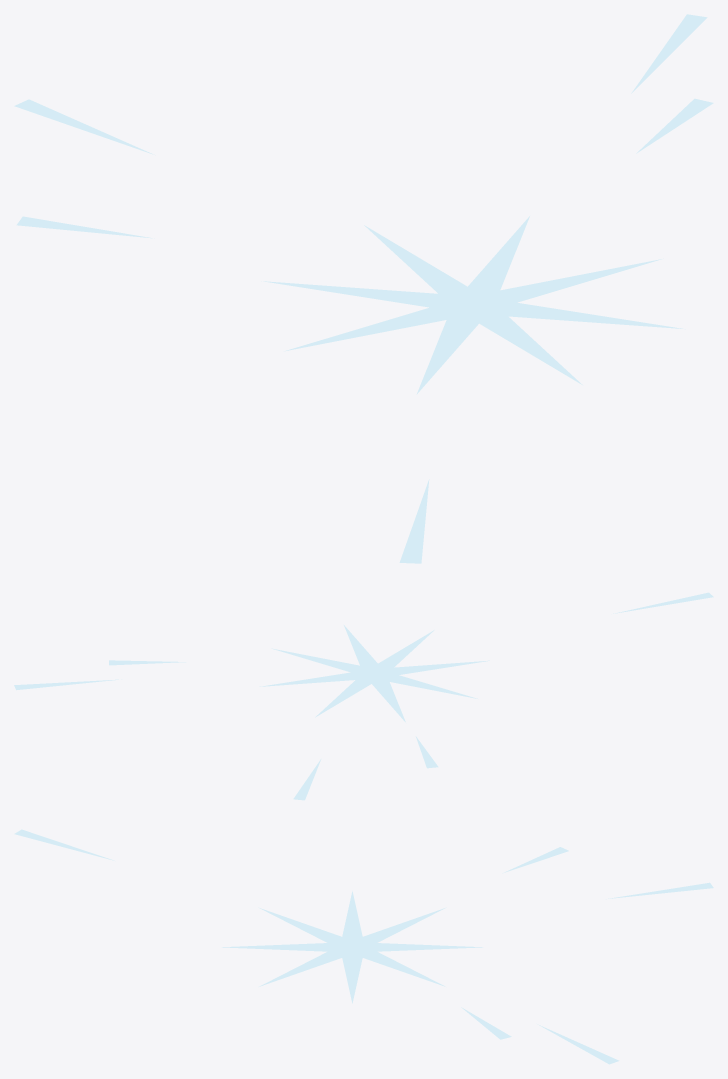
Rendered from Shared_Hit.glb.
The picture shows the model from 3 angles, top to bottom: view 1: azimuth 30°, elevation 25°; view 2: azimuth 150°, elevation 25°; view 3: azimuth 270°, elevation 25°; orthographic projection. The views are drawn at different scales.
Visible parts, largest first — view 1: Shared_Hit_Core, Shared_Hit_Spark00, Shared_Hit_Spark01, Shared_Hit_Spark04; view 2: Shared_Hit_Core, Shared_Hit_Spark00, Shared_Hit_Spark01; view 3: Shared_Hit_Core, Shared_Hit_Spark00, Shared_Hit_Spark01, Shared_Hit_Spark04.
Boxes of the visible parts, x1,y1,x2,y2 form: Shared_Hit_Core: (261, 216, 685, 394); Shared_Hit_Spark00: (399, 479, 429, 563); Shared_Hit_Spark01: (631, 14, 707, 93); Shared_Hit_Spark04: (14, 99, 155, 155); Shared_Hit_Core: (259, 625, 489, 722); Shared_Hit_Spark00: (613, 592, 713, 613); Shared_Hit_Spark01: (14, 679, 121, 690); Shared_Hit_Core: (222, 891, 482, 1003); Shared_Hit_Spark00: (14, 829, 114, 860); Shared_Hit_Spark01: (537, 1024, 619, 1064); Shared_Hit_Spark04: (606, 882, 713, 899).
Bounding box in the file's own units: 0.00132 × 4e-05 × 0.00167.
